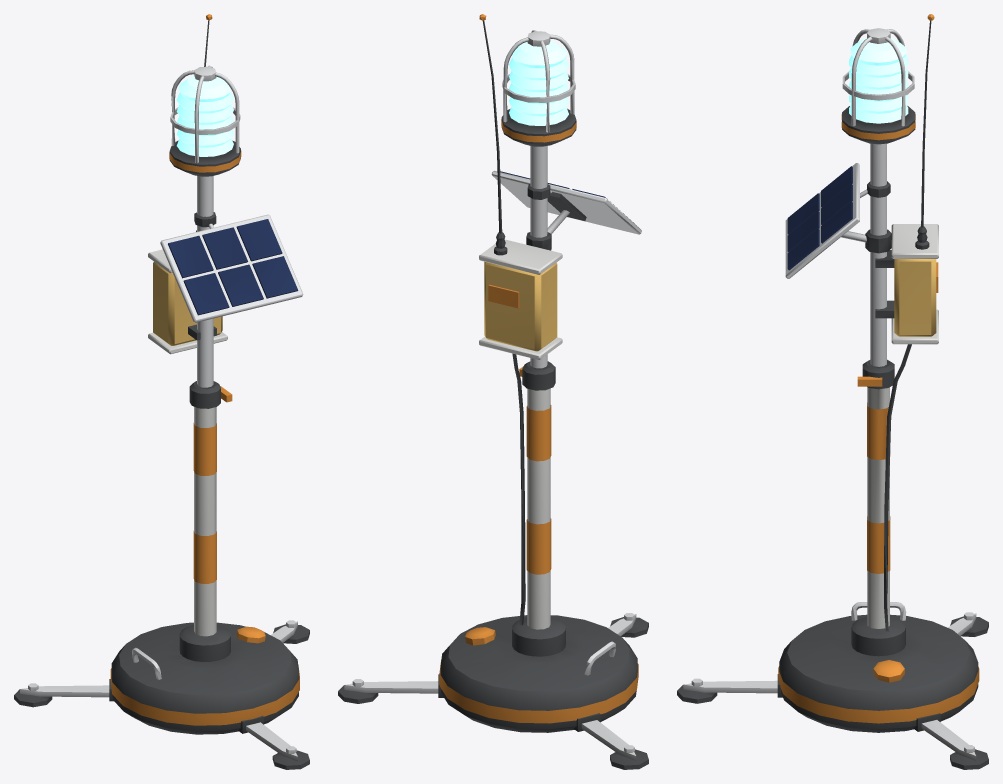
Rendered from beacon.glb.
3 views of the same model, side by side, from view 1: azimuth 30°, elevation 25°; view 2: azimuth 150°, elevation 25°; view 3: azimuth 270°, elevation 25° (orthographic). The views are drawn at different scales.
Visible parts, largest first — view 1: beacon_mesh, lamp_mesh; view 2: beacon_mesh, lamp_mesh; view 3: beacon_mesh, lamp_mesh.
Boxes of the visible parts, left/top/right/bottom form: beacon_mesh: left=14, top=14, right=309, bottom=769; lamp_mesh: left=176, top=75, right=233, bottom=156; beacon_mesh: left=338, top=14, right=648, bottom=769; lamp_mesh: left=509, top=40, right=568, bottom=125; beacon_mesh: left=677, top=14, right=988, bottom=769; lamp_mesh: left=849, top=38, right=908, bottom=123.
Bounding box in the file's own units: 1.01 × 2.2 × 0.8941.
